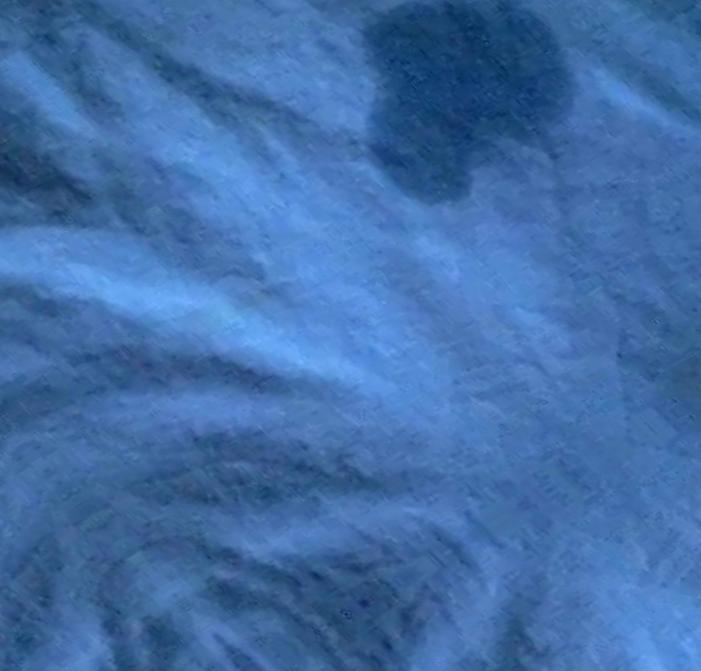stain: (339, 2, 591, 217)
